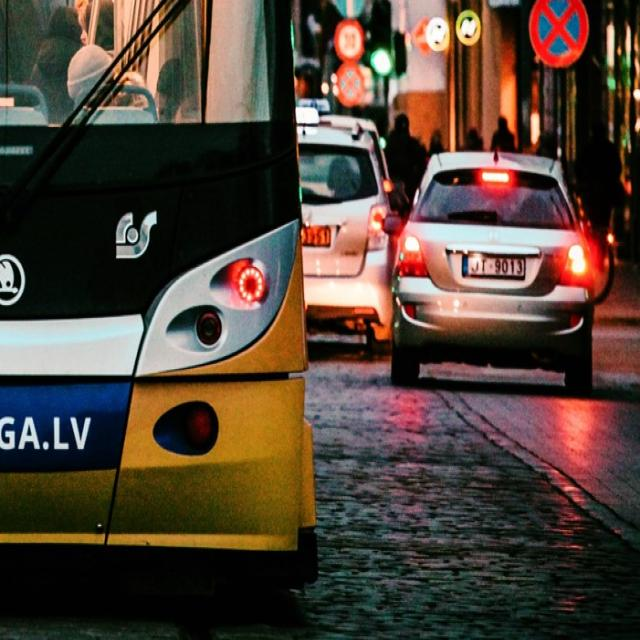bus: (0, 0, 310, 601)
car: (385, 151, 596, 392), (292, 108, 393, 341)
